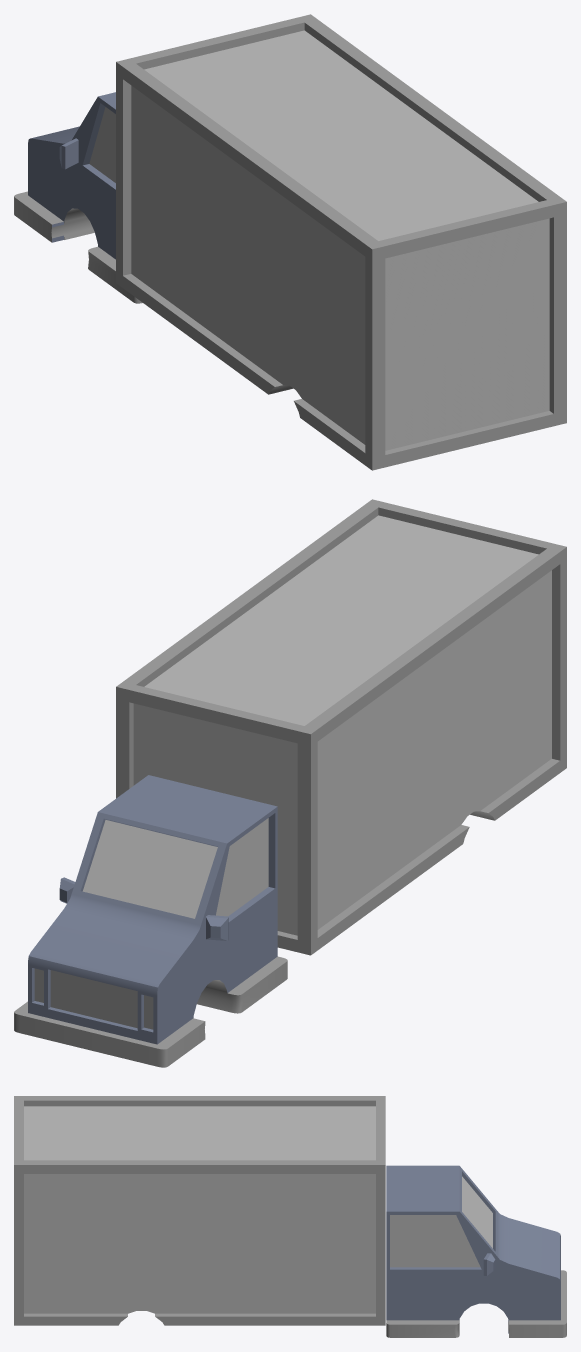
The model's file is SM_van_NoWheels.fbx.
3 renders of one model, top to bottom at view 1: azimuth 30°, elevation 25°; view 2: azimuth 150°, elevation 25°; view 3: azimuth 270°, elevation 25°, orthographic. The views are drawn at different scales.
Visible parts, largest first — view 1: Truck; view 2: Truck; view 3: Truck.
Boxes of the visible parts, x1,y1,x2,y2 form: Truck: (14, 14, 566, 470); Truck: (14, 499, 566, 1067); Truck: (14, 1096, 566, 1337).
Bounding box in the file's own units: 268 × 326 × 908.
